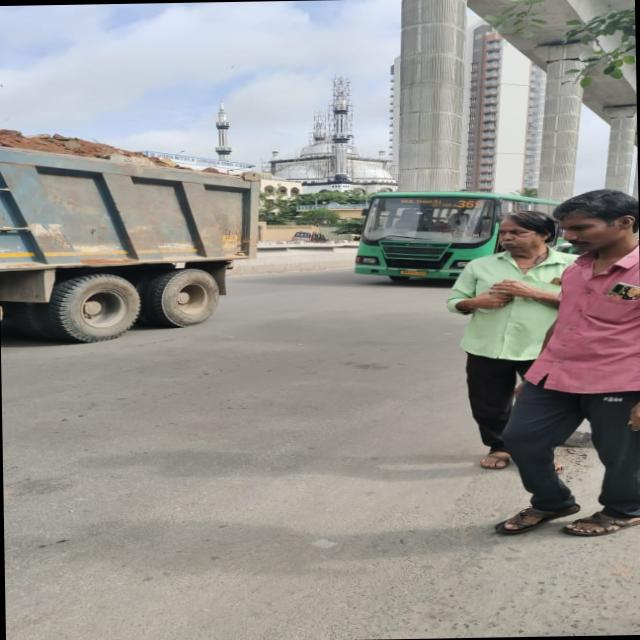bus: (358, 190, 498, 283)
display: (384, 196, 486, 210)
dnumber: (458, 199, 483, 209)
